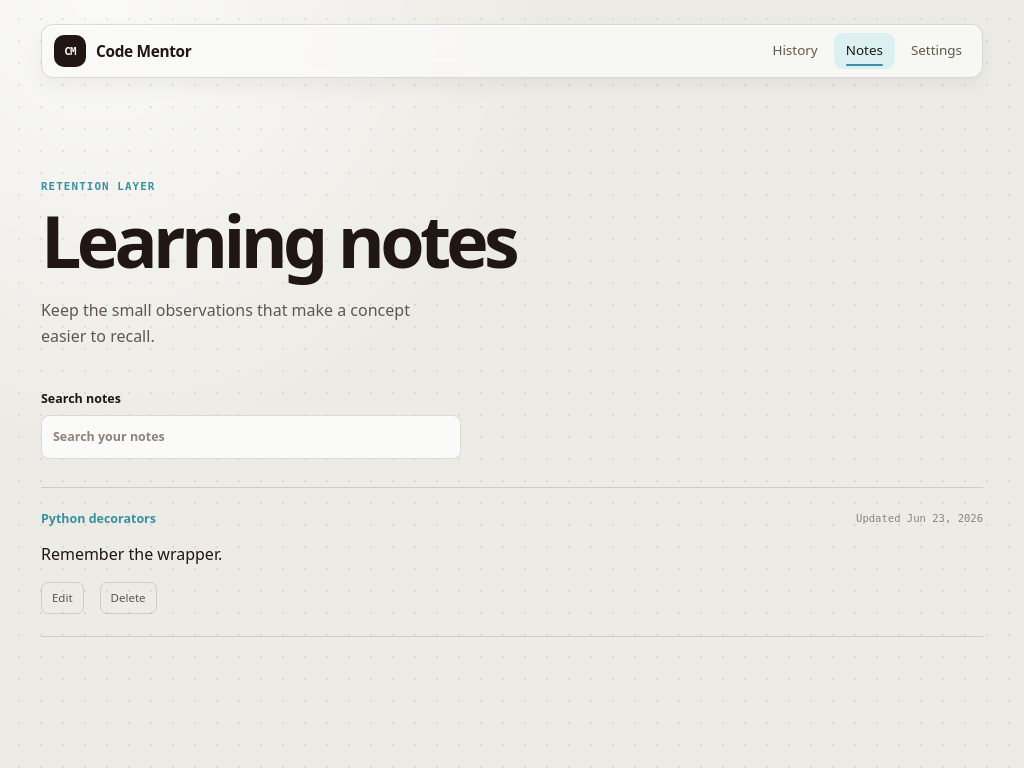
Test: workspace pages › edits and deletes a saved note
Expected: the text "Remember the wrapper." is shown, [41,542,222,564]
Click the button "Edit".
click(62, 598)  # box [41,582,84,614]
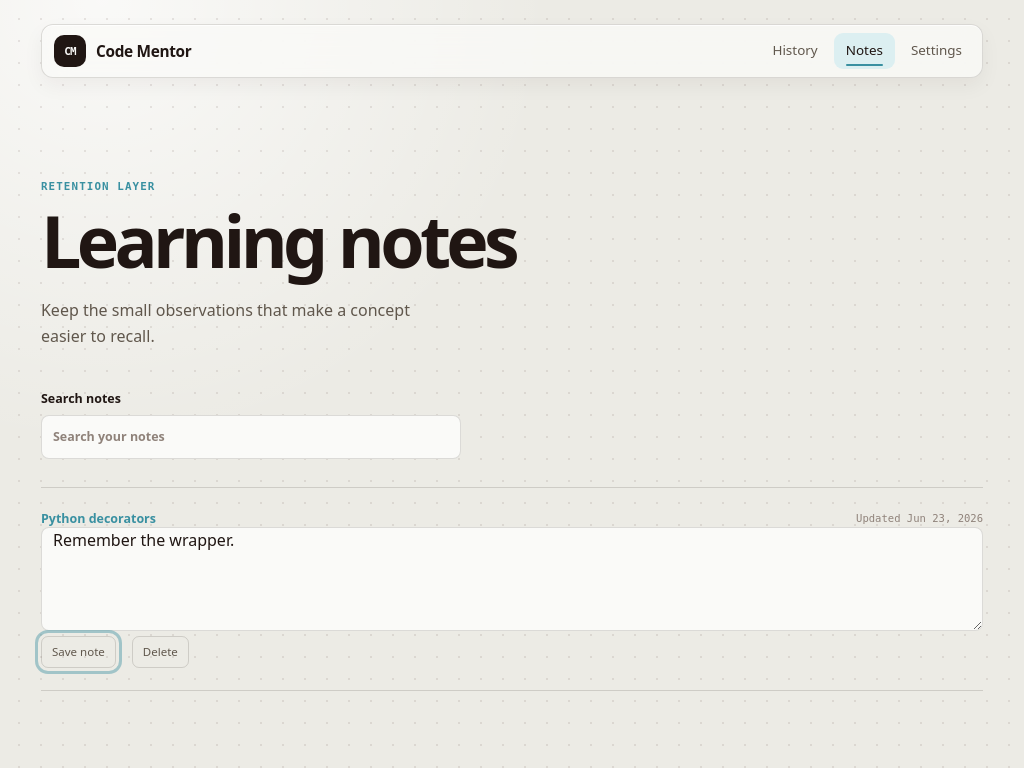
Replace the text in the text box named "Edit note" with "Remember the closure wrapper." at (512, 579), box [41,526,983,631]
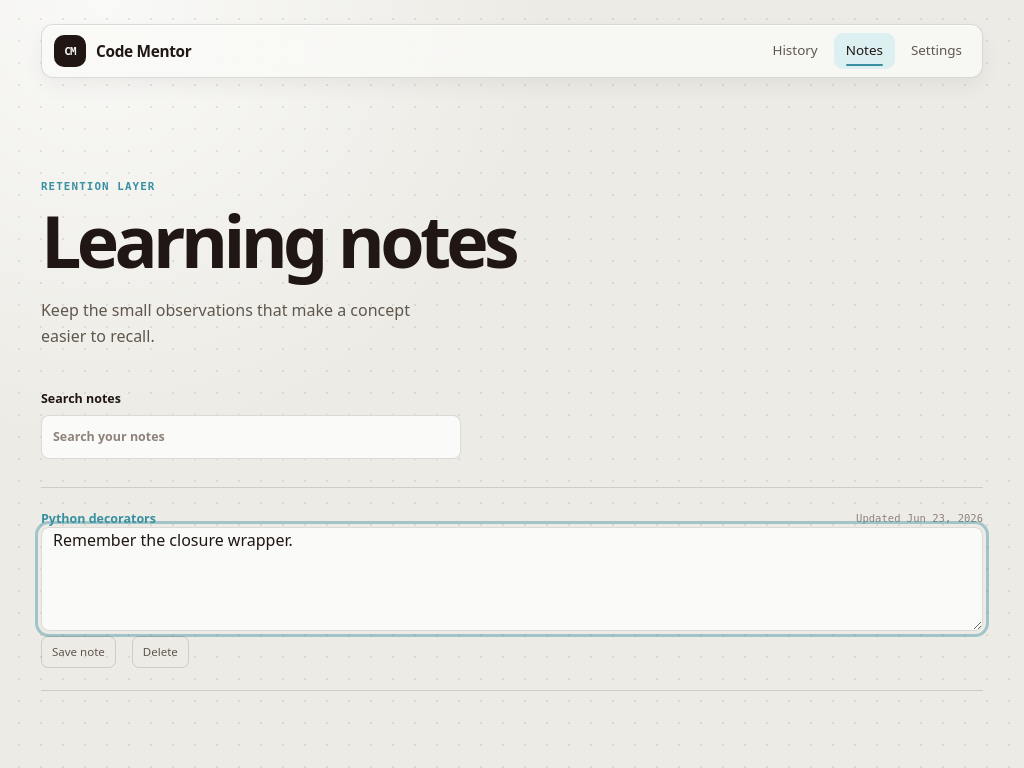
Click the button "Save note".
click(78, 652)  # box [41,636,116,668]
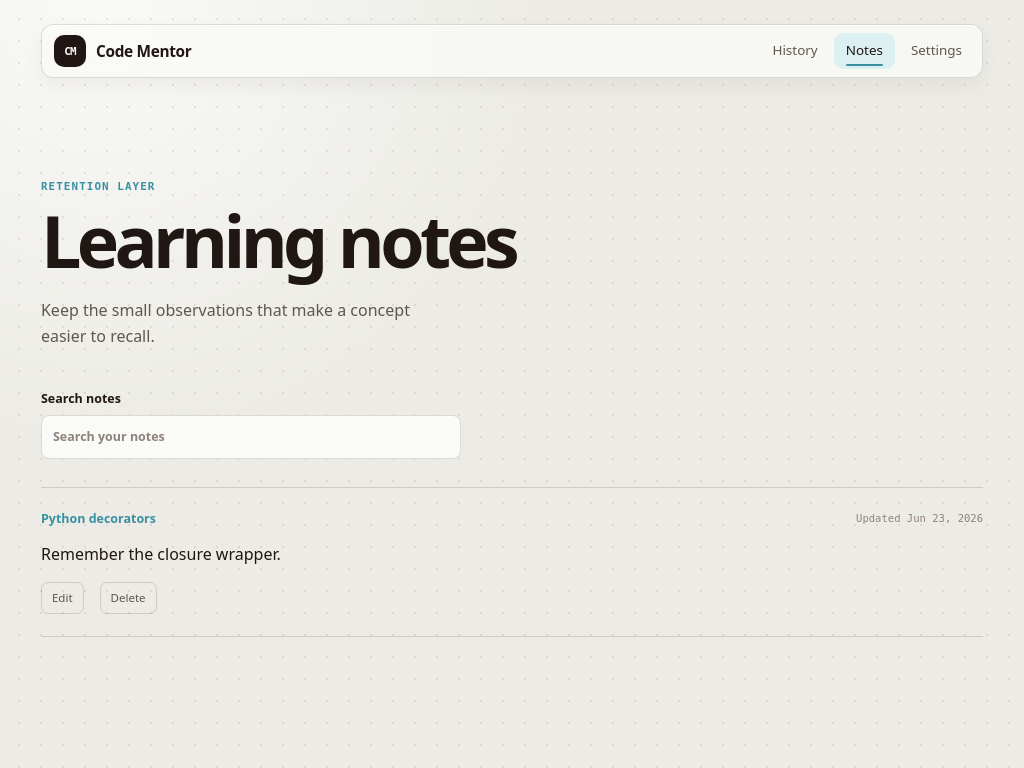
Now the text "Remember the closure wrapper." is shown, box [41,542,281,564]
Click the button "Delete".
click(128, 598)  # box [100,582,157,614]
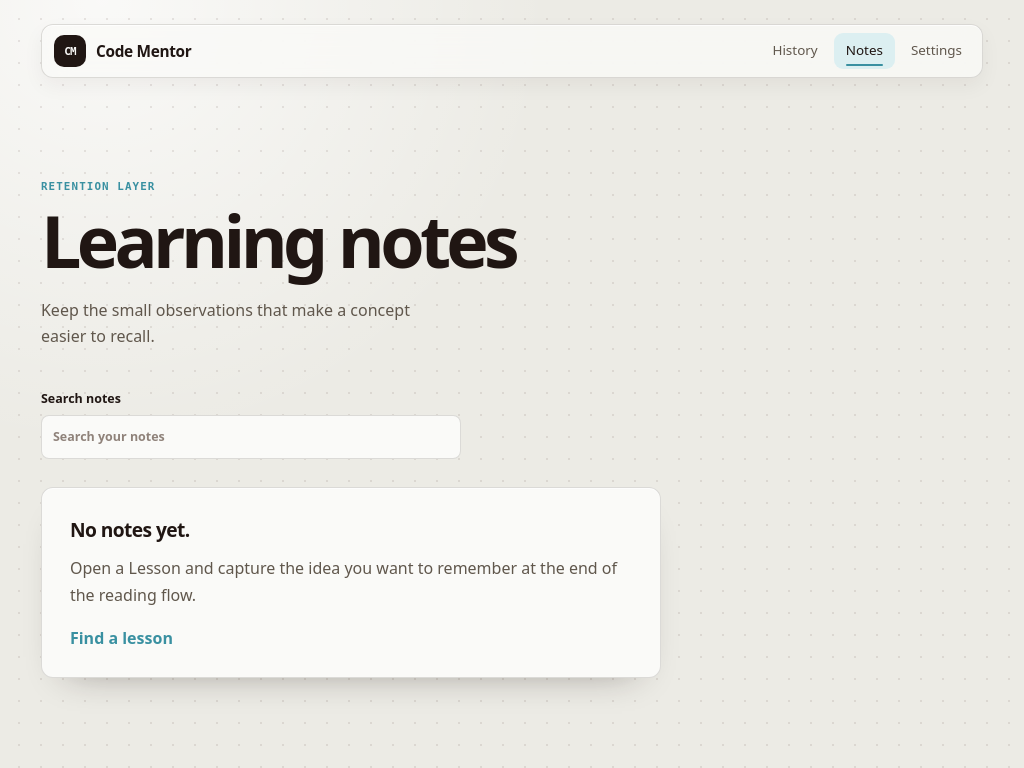
Now the text "Remember the closure wrapper." is gone
